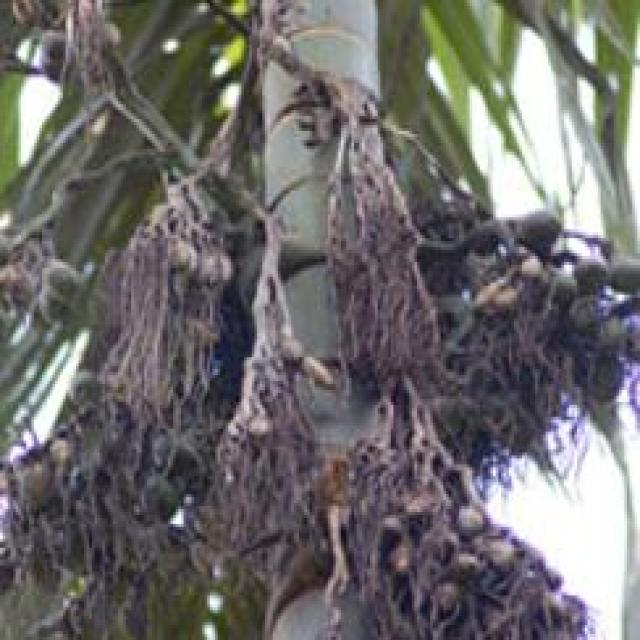Mahali_Koleroga: (86, 63, 577, 593)
